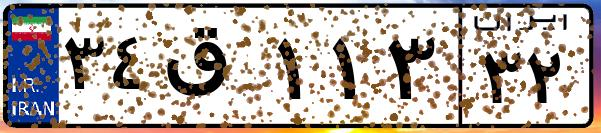1: (270, 28, 330, 110), (330, 28, 385, 110)
2: (525, 38, 570, 115)
3: (385, 28, 445, 110), (57, 26, 110, 100), (475, 38, 525, 113)
4: (110, 28, 158, 98)
ق: (158, 20, 270, 120)
